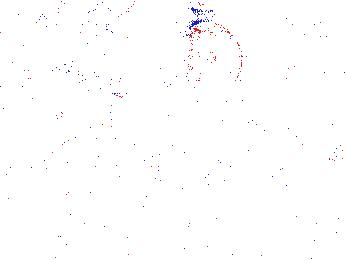moon jellyfish: (1, 21, 59, 101), (243, 23, 327, 78), (60, 28, 137, 86), (185, 21, 243, 97)
